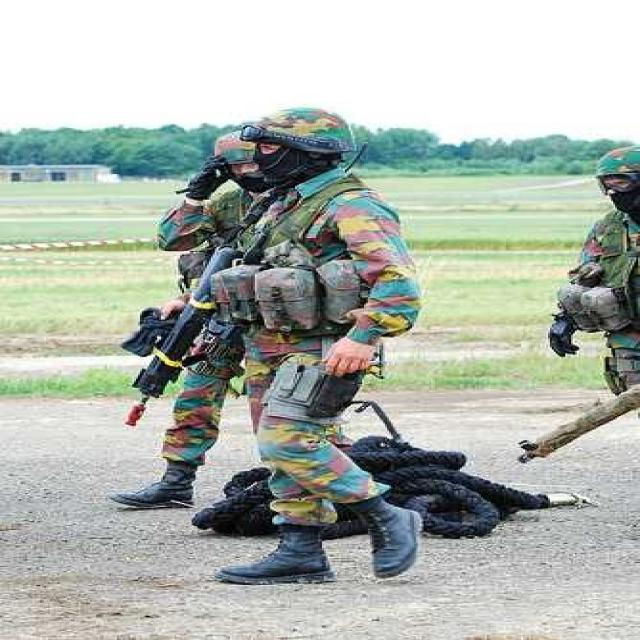Rifle: (124, 235, 230, 432)
